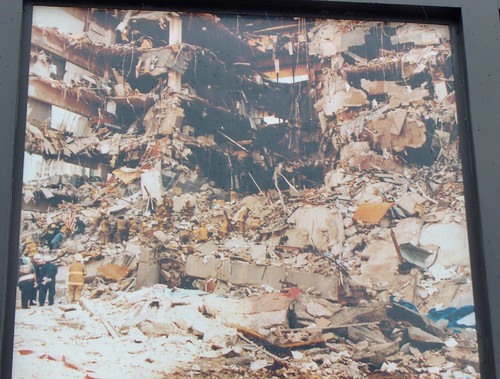debris: (25, 1, 484, 379)
